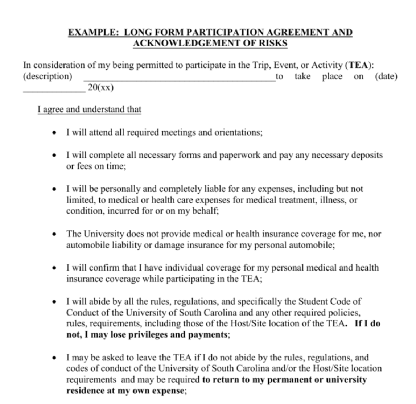textline: (80, 70, 277, 83), (19, 82, 89, 95)
